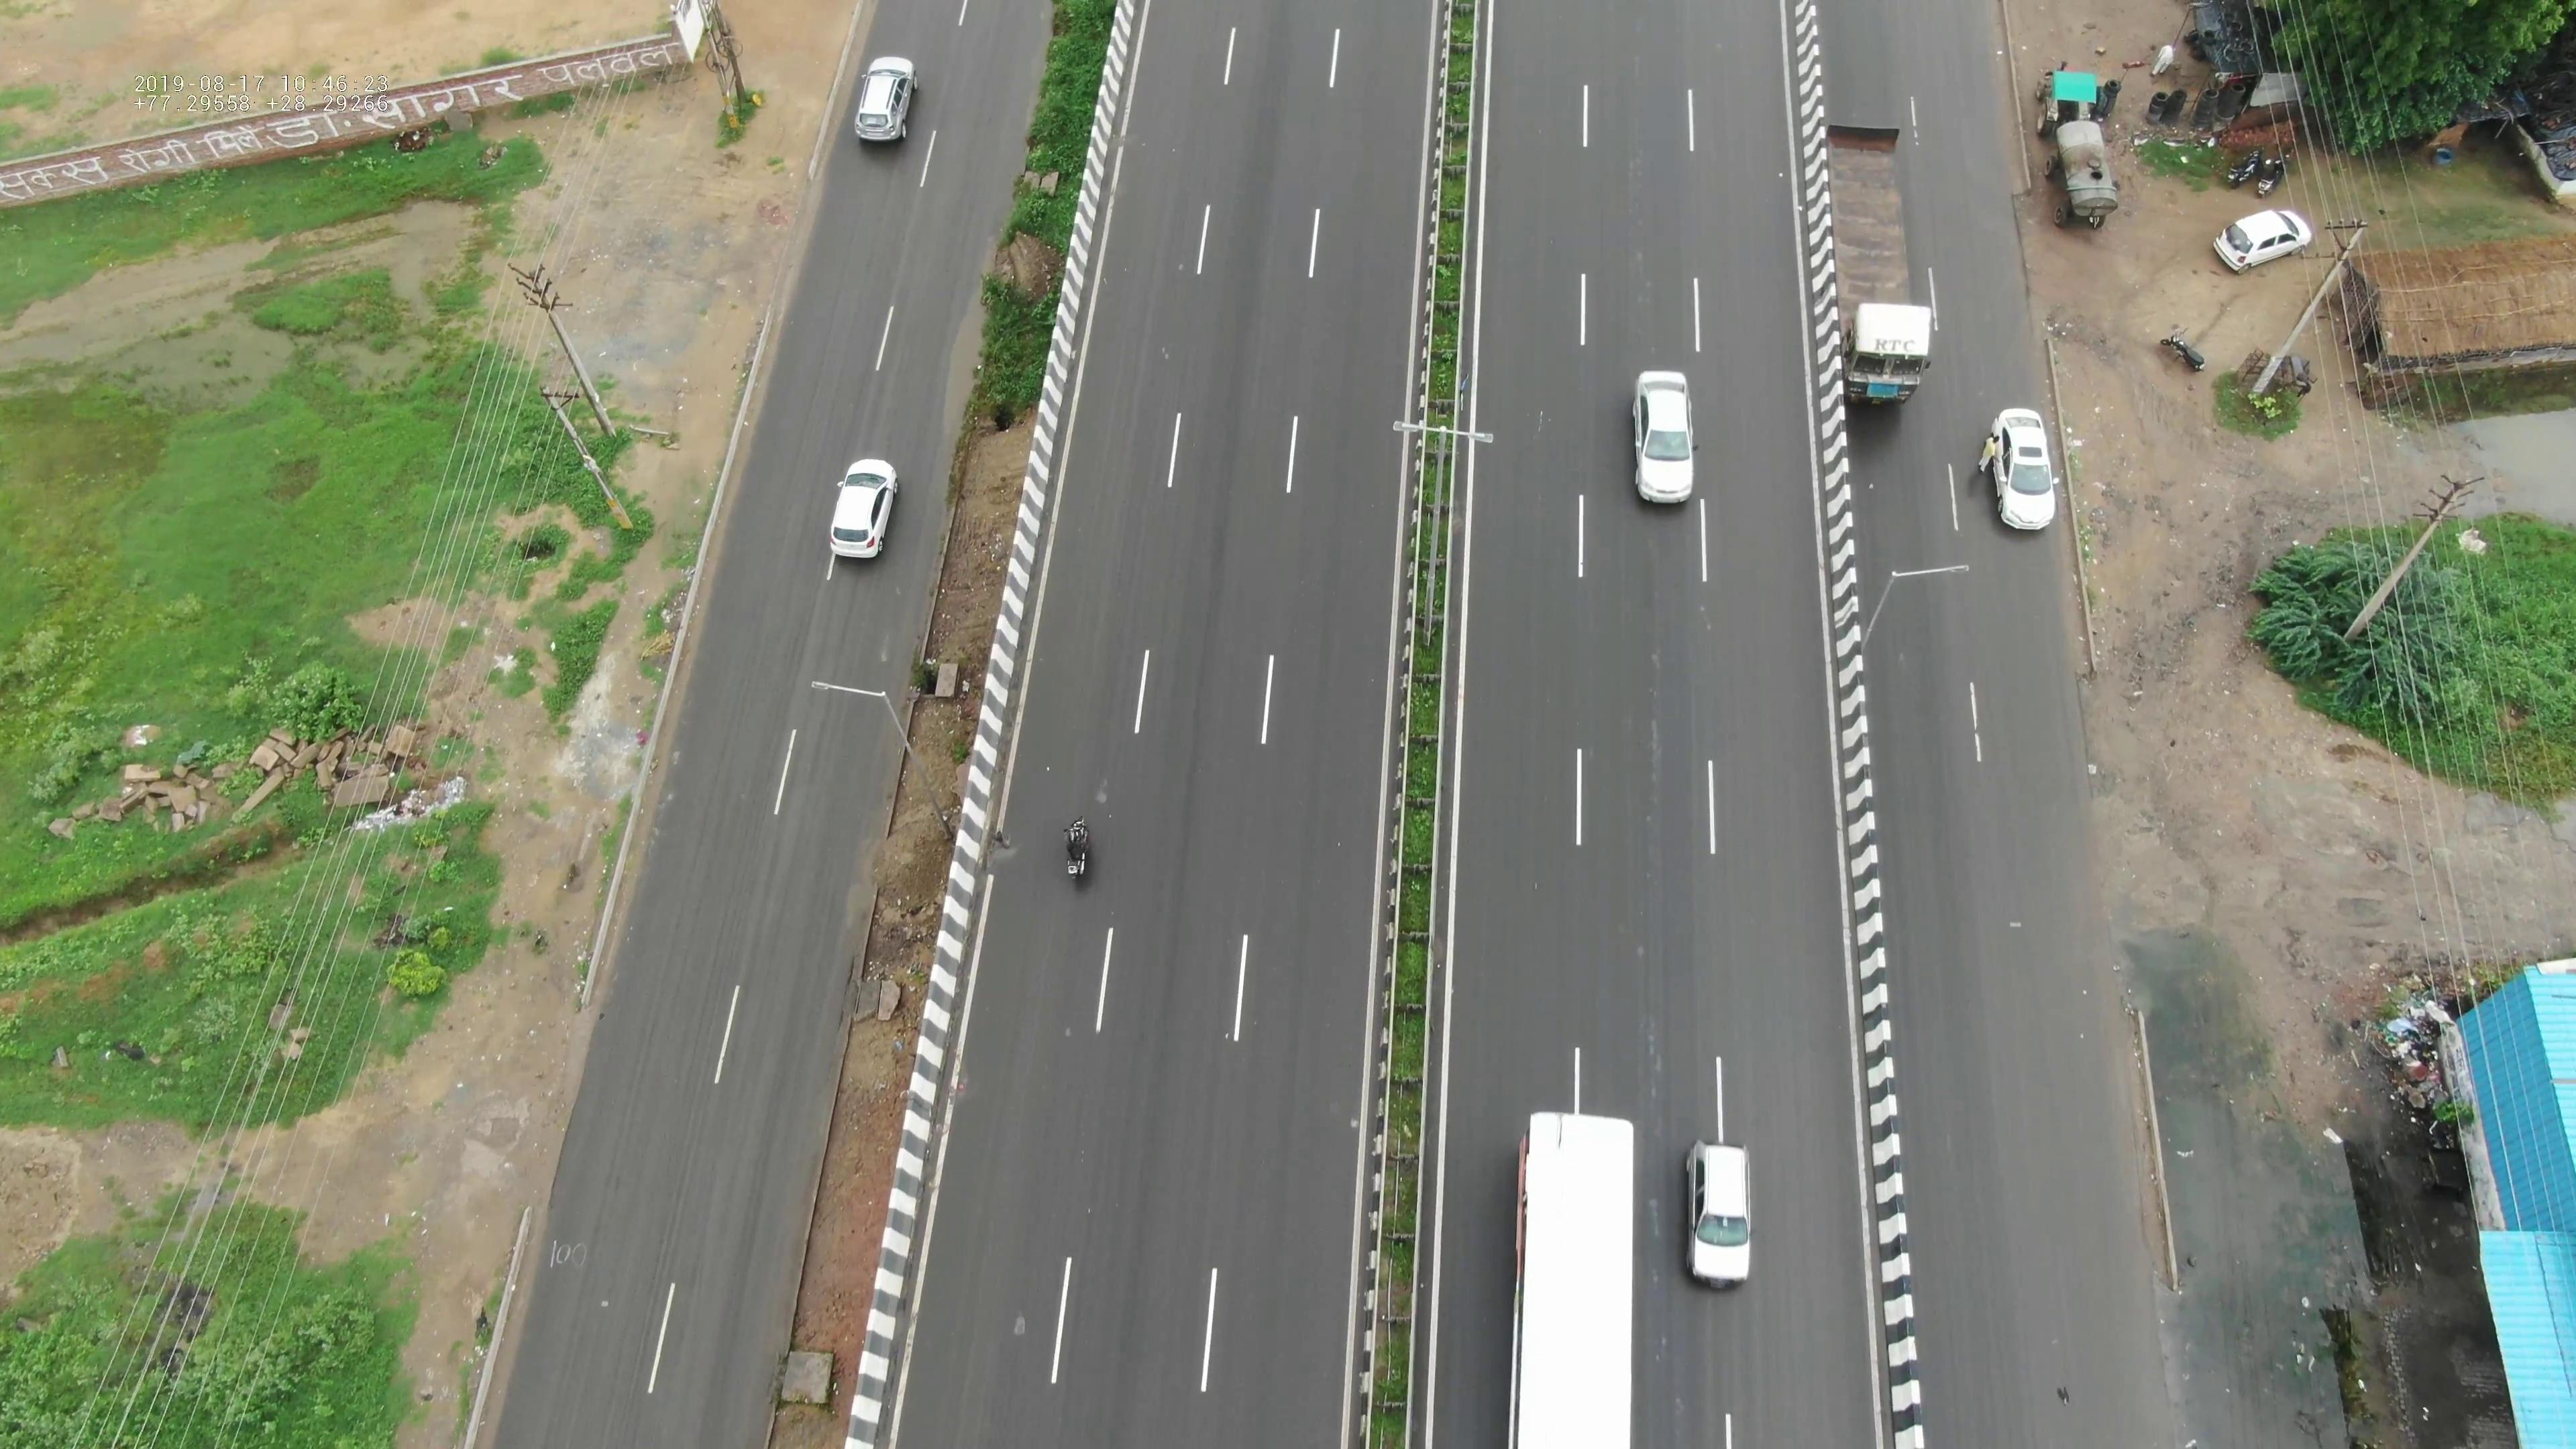Muddy_road: (2059, 678, 2187, 915)
